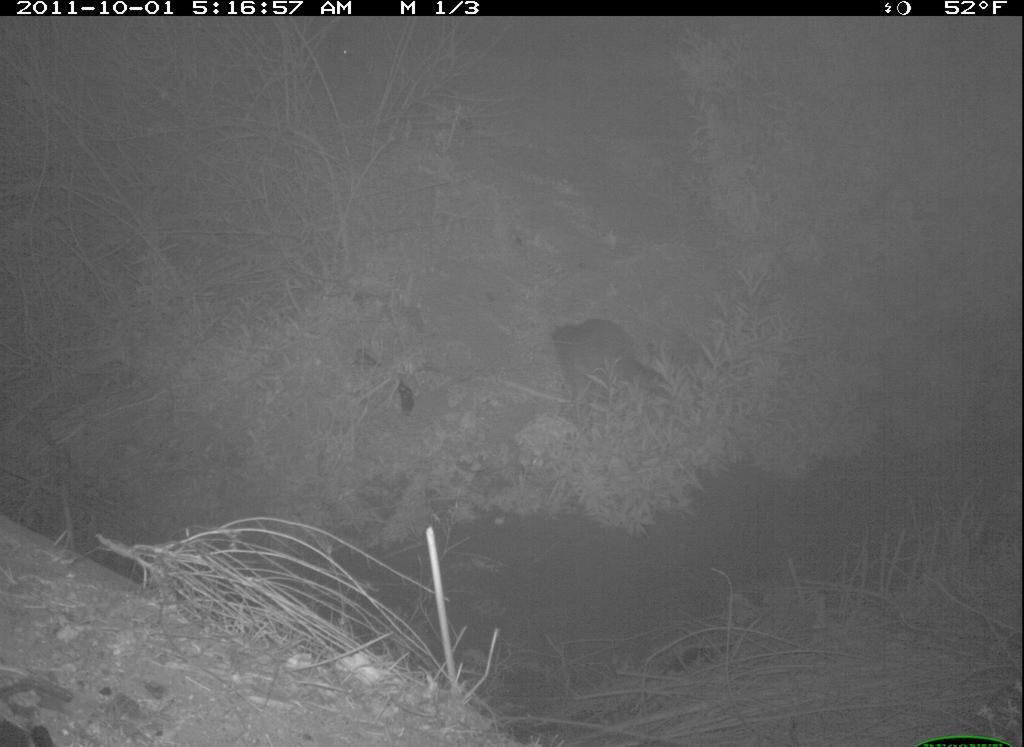raccoon: (546, 310, 693, 425)
